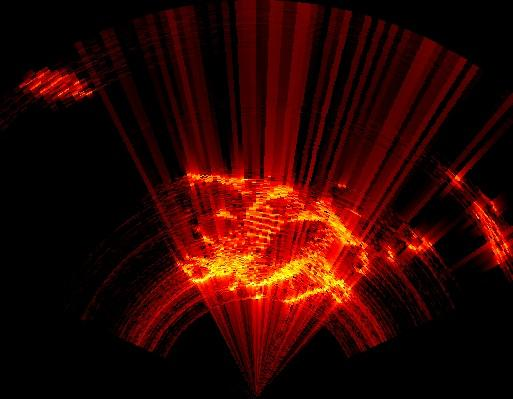shipwreck: (184, 200, 369, 302), (186, 173, 294, 216), (469, 193, 512, 276), (406, 237, 433, 254), (449, 173, 471, 193)
